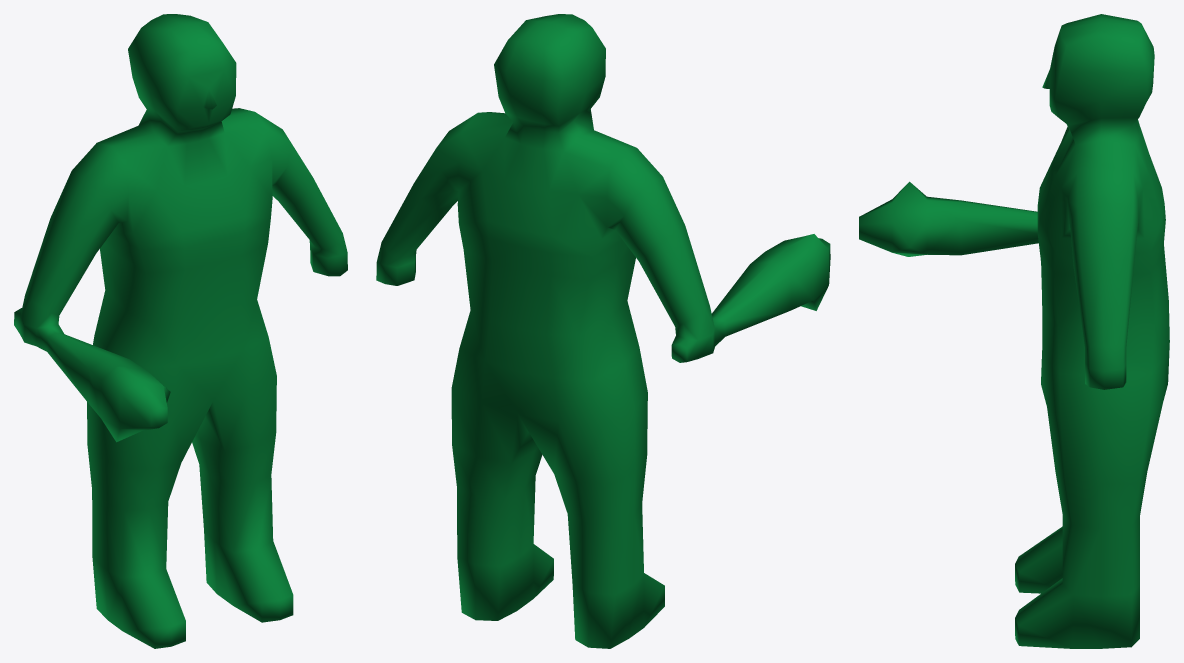
File: orcNoAnimation.fbx
3 renders of one model, left to right at view 1: azimuth 30°, elevation 25°; view 2: azimuth 150°, elevation 25°; view 3: azimuth 270°, elevation 25°, orthographic. The views are drawn at different scales.
Parts seen in each view (by area): view 1: Box001; view 2: Box001; view 3: Box001.
Boxes of the visible parts, bbox=[...] form: Box001: bbox=[14, 14, 347, 648]; Box001: bbox=[376, 14, 830, 648]; Box001: bbox=[859, 14, 1169, 648].
Bounding box in the file's own units: 42.57 × 70.83 × 33.86.
